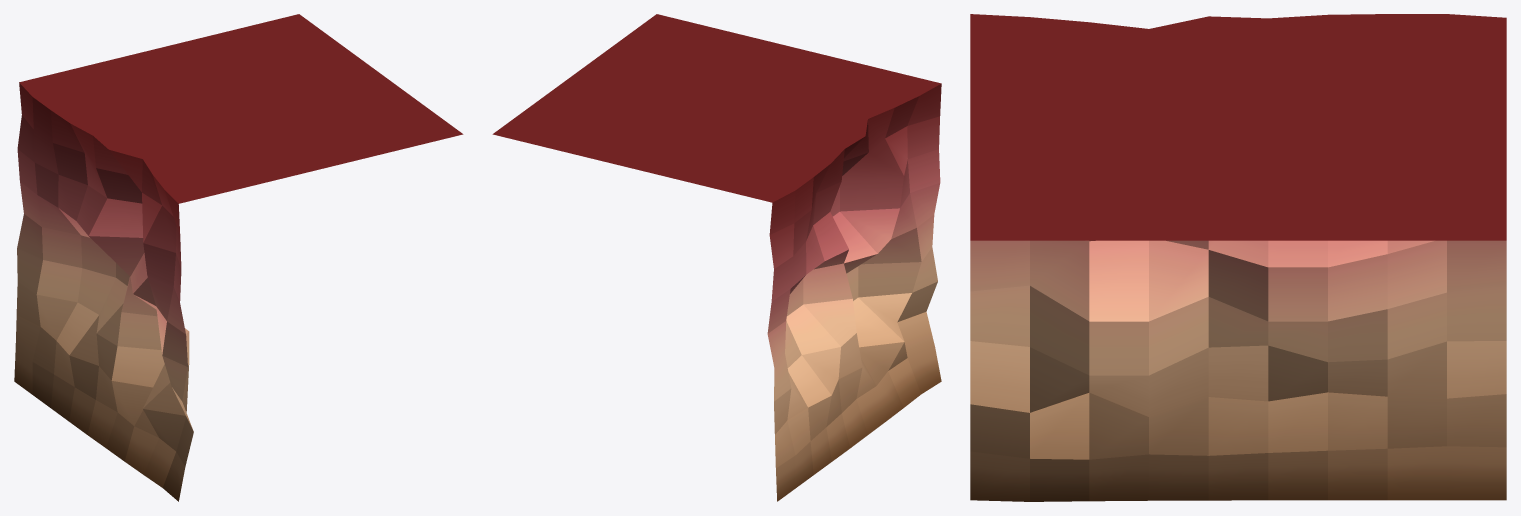
The picture shows the model from 3 angles, left to right: view 1: azimuth 30°, elevation 25°; view 2: azimuth 150°, elevation 25°; view 3: azimuth 270°, elevation 25°; orthographic projection. The views are drawn at different scales.
Parts seen in each view (by area): view 1: base6.001; view 2: base6.001; view 3: base6.001.
Boxes of the visible parts, x1=… form: base6.001: x1=14, y1=14, x2=463, y2=501; base6.001: x1=492, y1=14, x2=941, y2=501; base6.001: x1=970, y1=14, x2=1506, y2=501.
Bounding box in the file's own units: 100 × 100 × 100.
